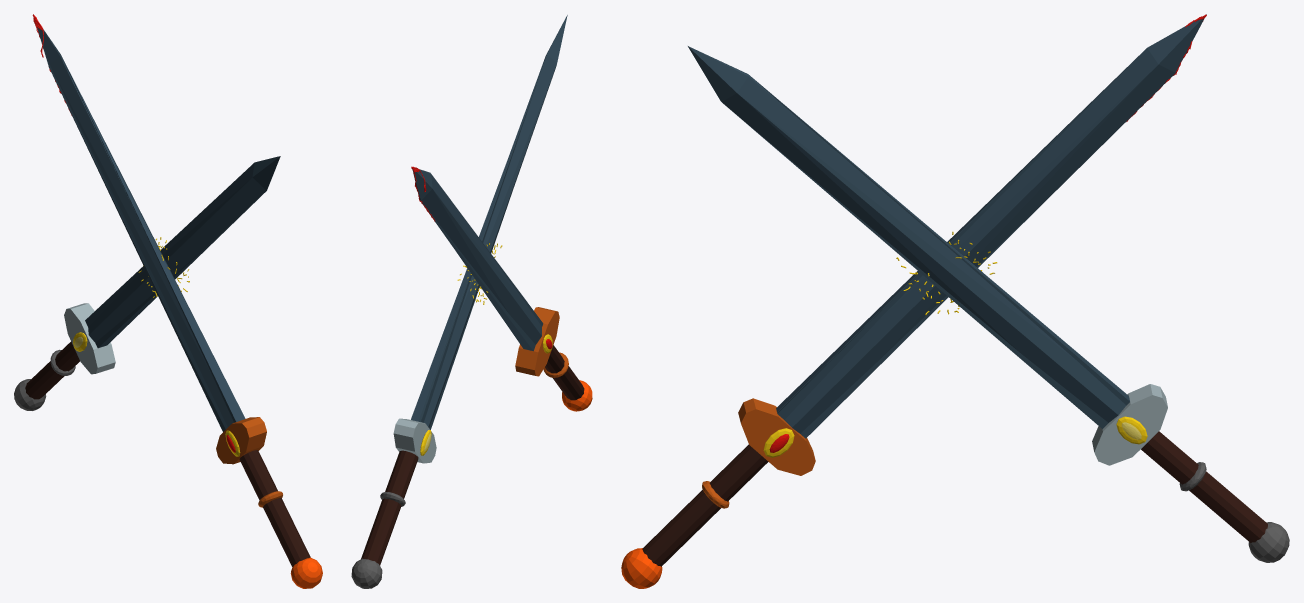
3 views of the same model, side by side, from view 1: azimuth 30°, elevation 25°; view 2: azimuth 150°, elevation 25°; view 3: azimuth 270°, elevation 25° (orthographic). The views are drawn at different scales.
Visible parts, largest first — view 1: group517930167, group1954418448; view 2: group1954418448, group517930167; view 3: group1954418448, group517930167.
Part boxes in pixels (x1,y1,x2,y2): group517930167: [37, 27, 322, 588]; group1954418448: [14, 156, 280, 410]; group1954418448: [351, 15, 567, 588]; group517930167: [412, 169, 592, 411]; group1954418448: [688, 46, 1289, 562]; group517930167: [621, 14, 1206, 588].
Size of the model in its own units: 0.7627 by 4.47 by 5.01.
